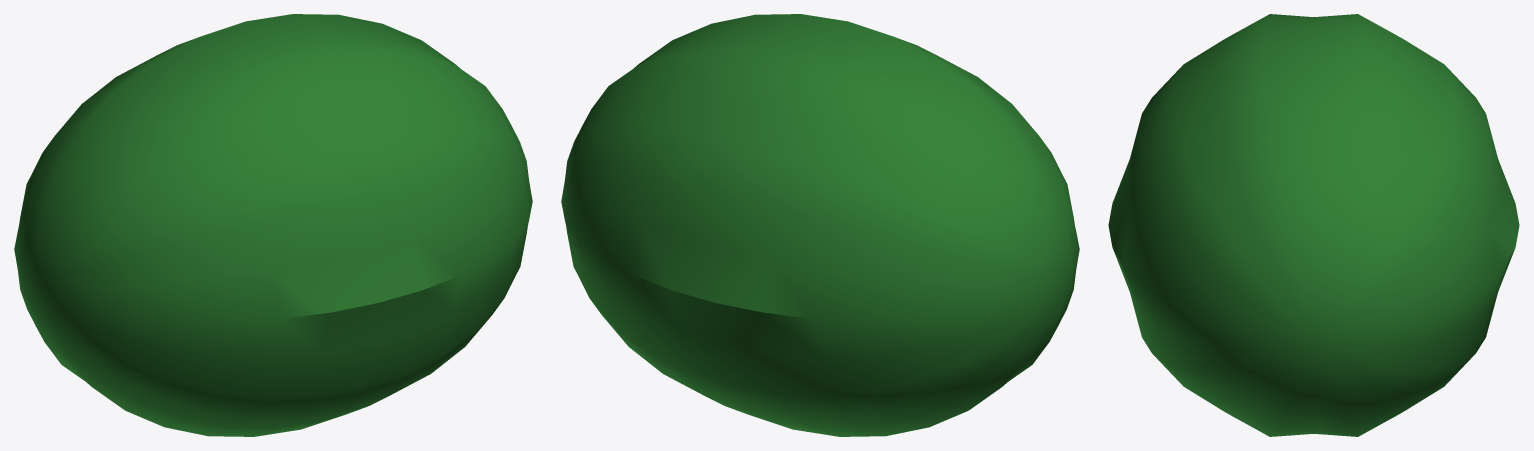
File: Watermelon.fbx
The picture shows the model from 3 angles, left to right: view 1: azimuth 30°, elevation 25°; view 2: azimuth 150°, elevation 25°; view 3: azimuth 270°, elevation 25°; orthographic projection. The views are drawn at different scales.
Visible parts, largest first — view 1: Watermelon; view 2: Watermelon; view 3: Watermelon.
Boxes of the visible parts, <box> form: Watermelon: <box>14,14,532,436</box>; Watermelon: <box>561,14,1079,436</box>; Watermelon: <box>1108,14,1519,436</box>.
Bounding box in the file's own units: 0.32 × 0.2378 × 0.2472.
